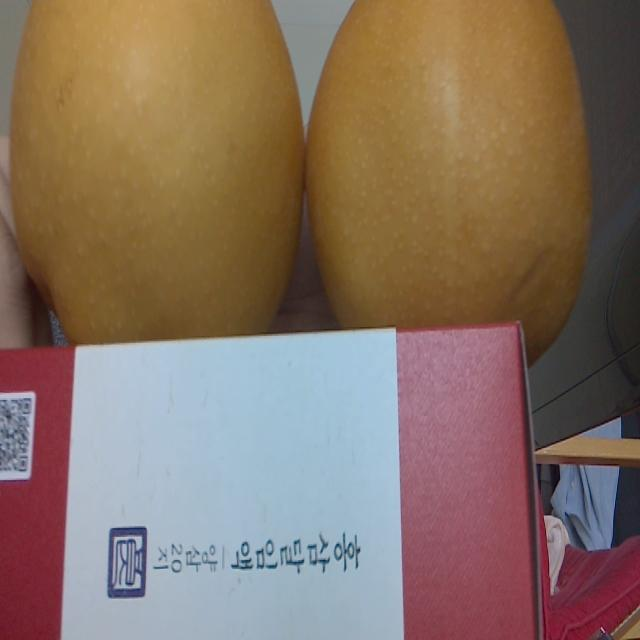pear: (304, 0, 594, 376), (9, 0, 302, 333)
